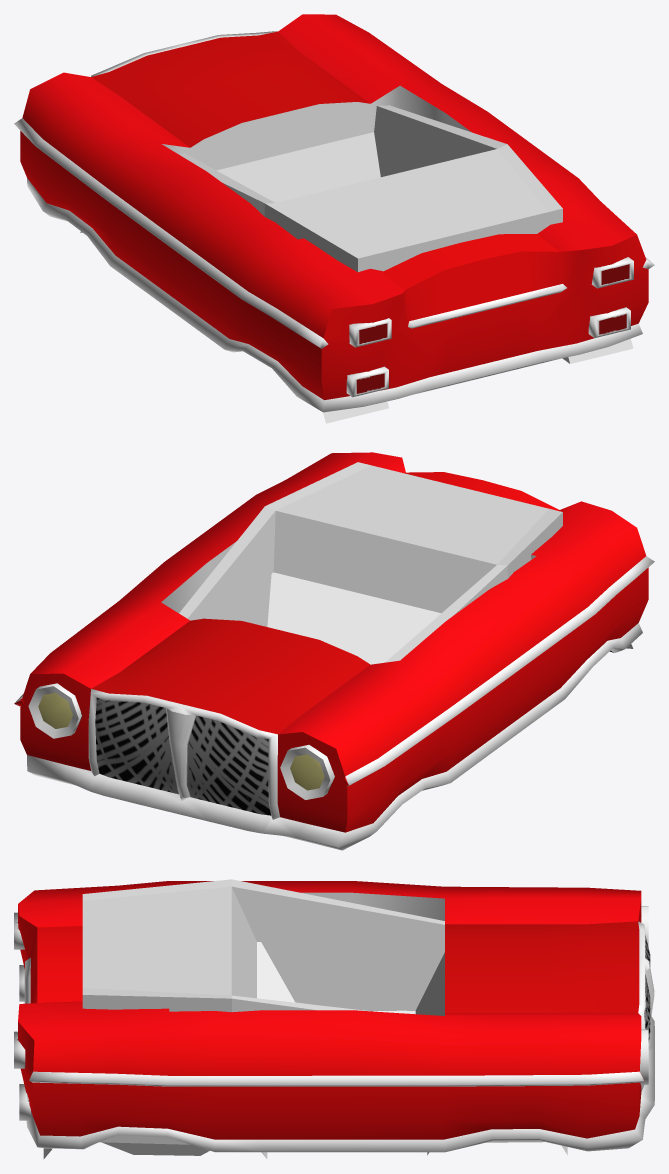
The model's file is bipple_cart.glb.
The picture shows the model from 3 angles, top to bottom: view 1: azimuth 30°, elevation 25°; view 2: azimuth 150°, elevation 25°; view 3: azimuth 270°, elevation 25°; orthographic projection.
Visible parts, largest first — view 1: body (×2); view 2: body (×2); view 3: body (×2).
Boxes of the visible parts, x1=… form: body (×2): x1=14, y1=14, x2=654, y2=423; body (×2): x1=14, y1=452, x2=654, y2=850; body (×2): x1=14, y1=879, x2=654, y2=1159.
Bounding box in the file's own units: 1.11 × 0.5285 × 1.73.
1 material, 1 textured.
